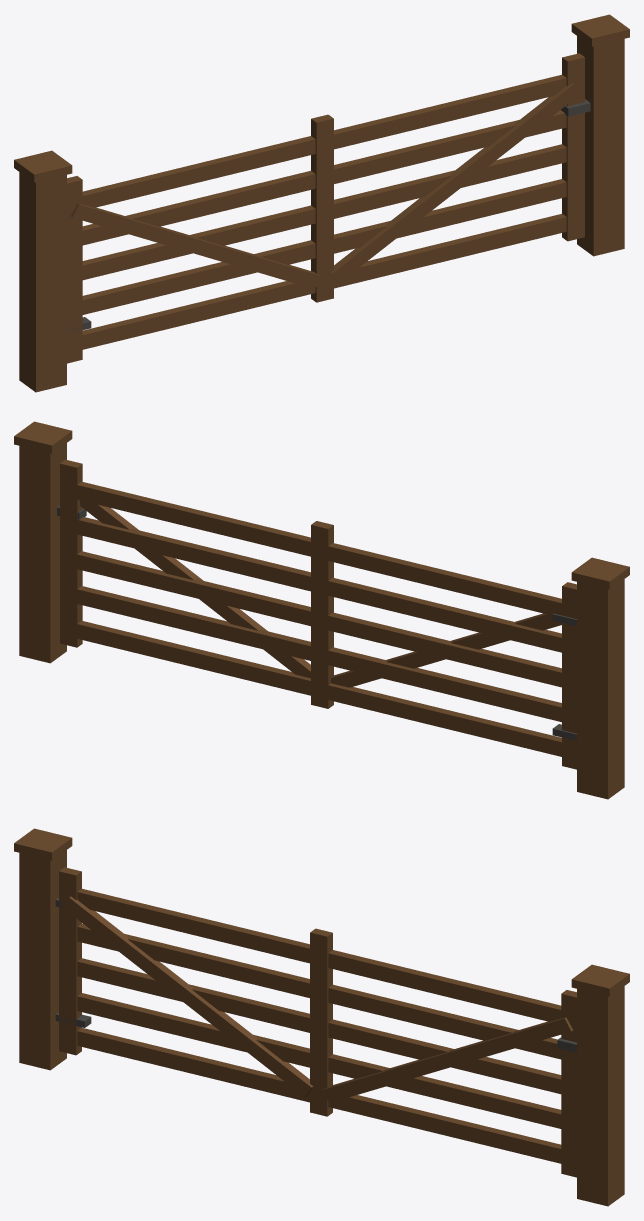
File: field-gate-a.glb
The picture shows the model from 3 angles, top to bottom: view 1: azimuth 30°, elevation 25°; view 2: azimuth 150°, elevation 25°; view 3: azimuth 330°, elevation 25°; orthographic projection.
Visible parts, largest first — view 1: Body_Wood; view 2: Body_Wood, Body_Iron; view 3: Body_Wood, Body_Iron.
Boxes of the visible parts, x1,y1,x2,y2 form: Body_Wood: (14, 14, 629, 392); Body_Wood: (14, 421, 629, 799); Body_Iron: (57, 505, 576, 740); Body_Wood: (14, 828, 629, 1206); Body_Iron: (55, 897, 576, 1052).
Bounding box in the file's own units: 3.4 × 1.2 × 0.2.
